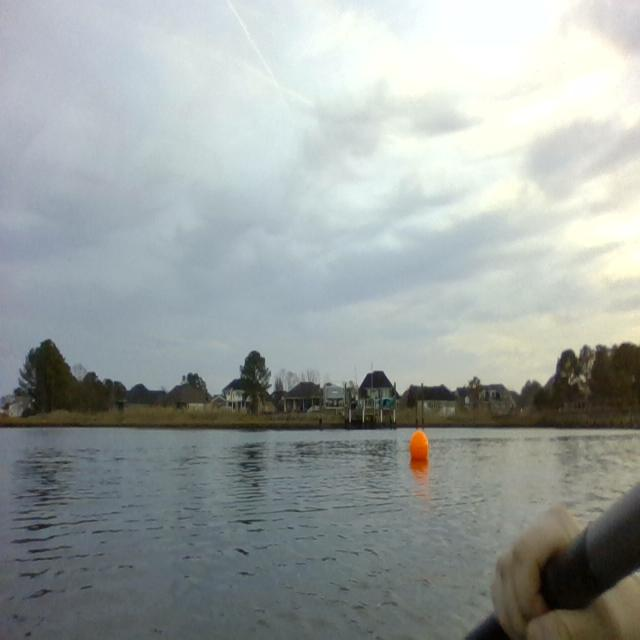Buoy: (408, 427, 429, 464)
